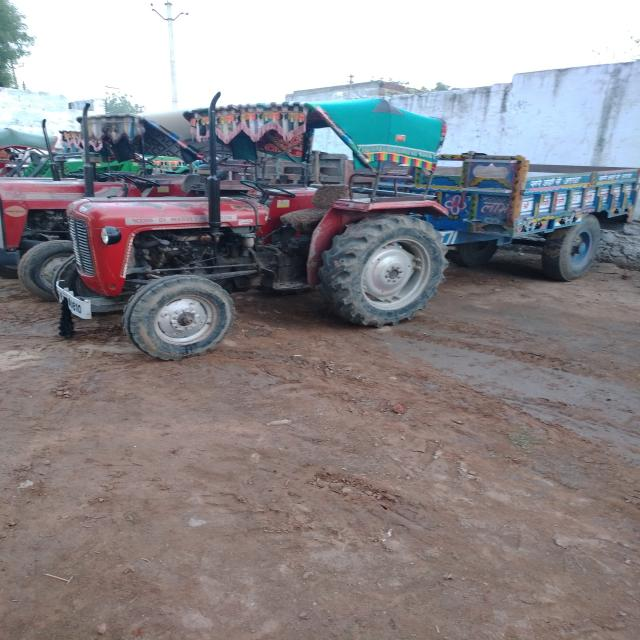Tractor: (0, 104, 640, 337)
